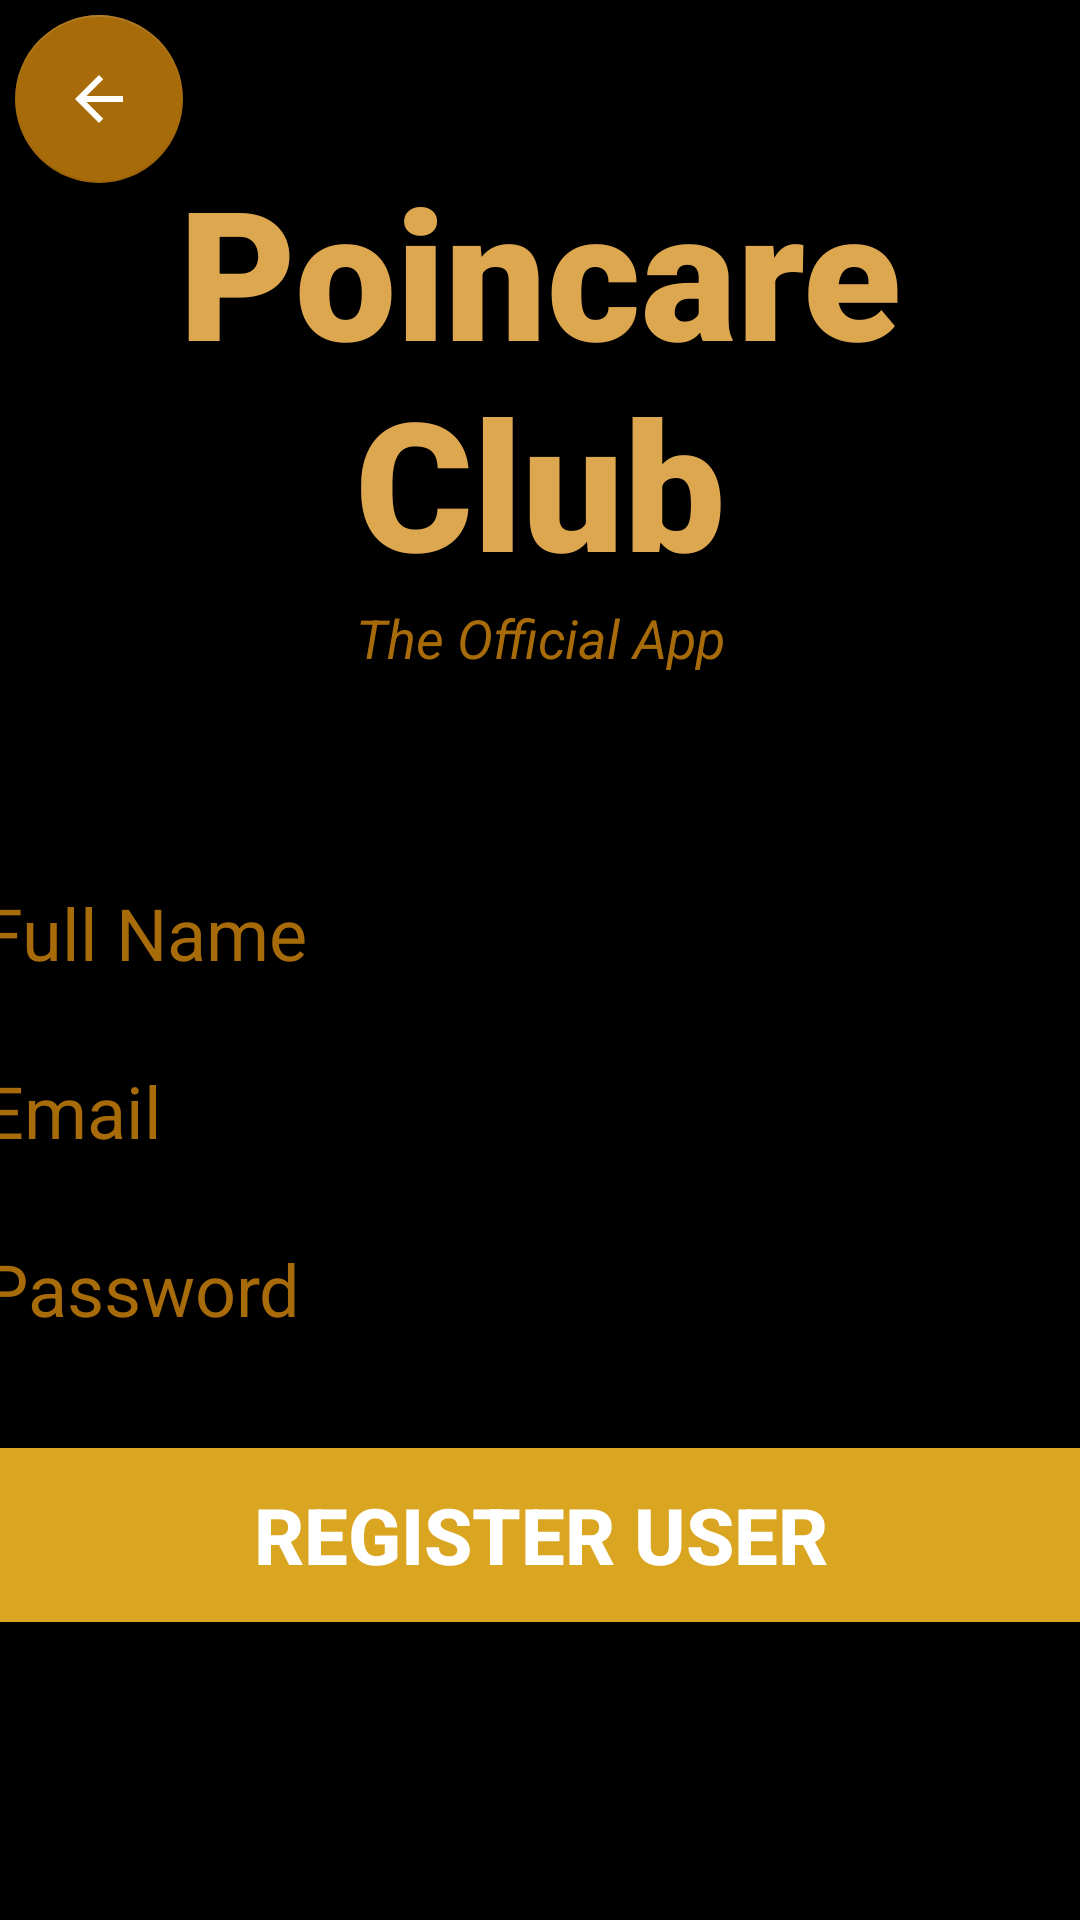

Where icons sit on this 1080×1920 app screen, as (x1, y1, x2, y2):
Back Button: (15, 15, 183, 183)
